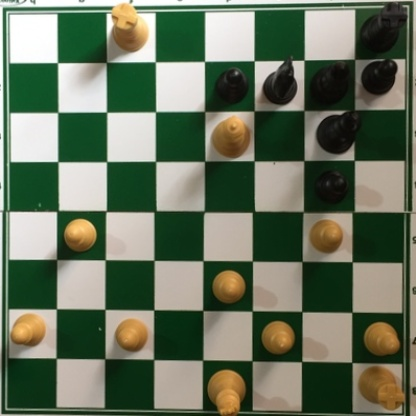black-bishop: (312, 57, 351, 105)
black-king: (313, 109, 362, 155)
black-knight: (261, 54, 300, 105)
black-pawn: (360, 57, 398, 96), (213, 67, 248, 105), (313, 170, 348, 206)
black-rook: (356, 1, 404, 55)
white-king: (201, 366, 247, 416)
white-pawn: (111, 314, 150, 355), (361, 321, 402, 359), (259, 318, 298, 357), (211, 268, 247, 307), (8, 310, 48, 345), (308, 218, 346, 254), (62, 218, 98, 253)
white-queen: (209, 114, 251, 160)
white-rook: (354, 361, 405, 411), (105, 2, 148, 55)
